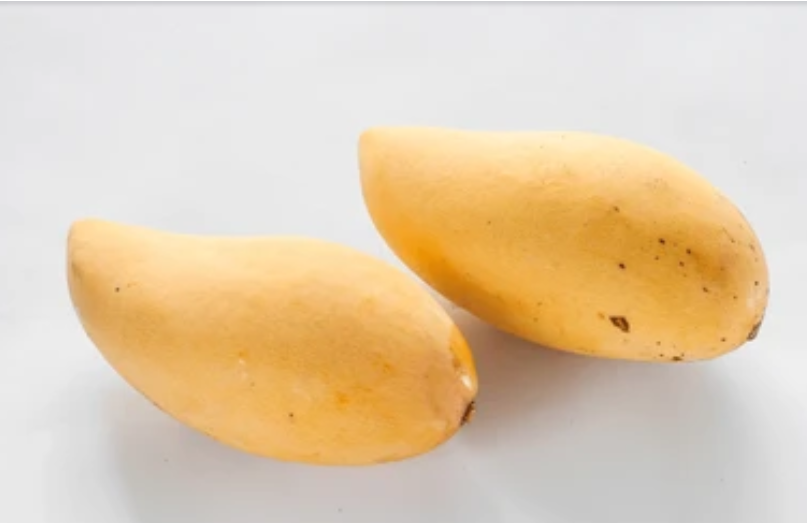mango: (64, 214, 480, 464), (356, 120, 769, 365)
